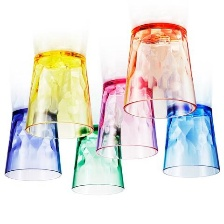glass: (118, 20, 208, 121), (20, 44, 101, 145), (91, 73, 164, 162), (0, 104, 69, 186), (157, 101, 223, 181), (65, 119, 128, 202)
